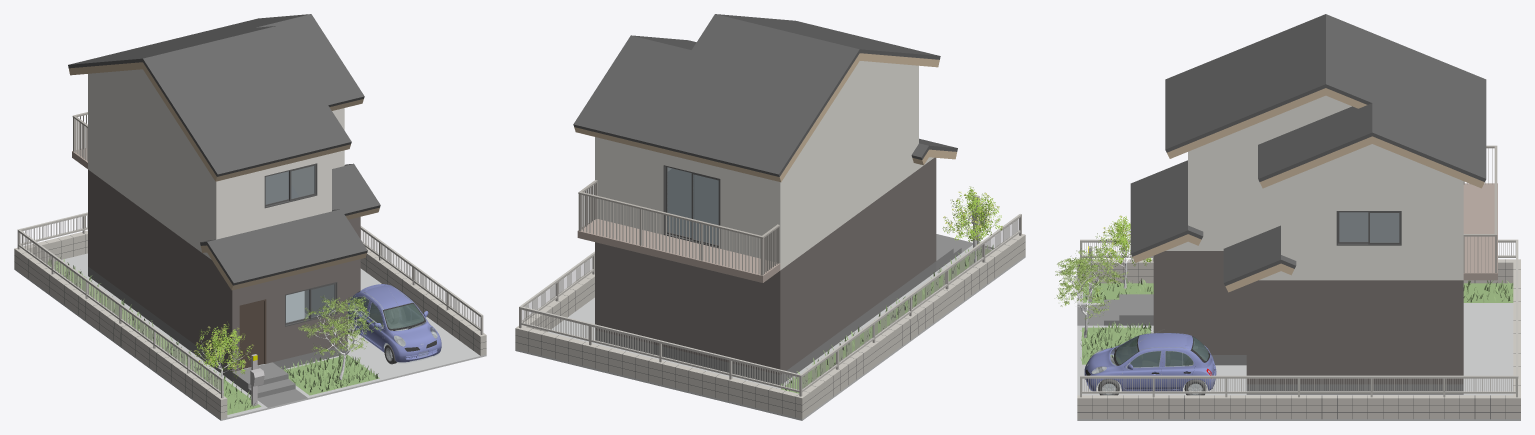
File: normal_house.glb
3 renders of one model, left to right at view 1: azimuth 30°, elevation 25°; view 2: azimuth 150°, elevation 25°; view 3: azimuth 270°, elevation 25°, orthographic. The views are drawn at different scales.
Parts seen in each view (by area): view 1: 40㎡立体モデル, 門柱; view 2: 40㎡立体モデル, バルコニーガラス; view 3: 40㎡立体モデル.
Boxes of the visible parts, box(x1,y1,x2,y2) form: 40㎡立体モデル: box(14, 14, 486, 420); 門柱: box(250, 354, 264, 406); 40㎡立体モデル: box(515, 14, 1025, 420); バルコニーガラス: box(667, 167, 718, 244); 40㎡立体モデル: box(1054, 14, 1520, 420).
Size of the model in its own units: 8.63 by 8.3 by 12.2.
